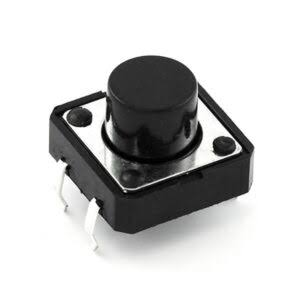Button: (42, 45, 262, 260)
